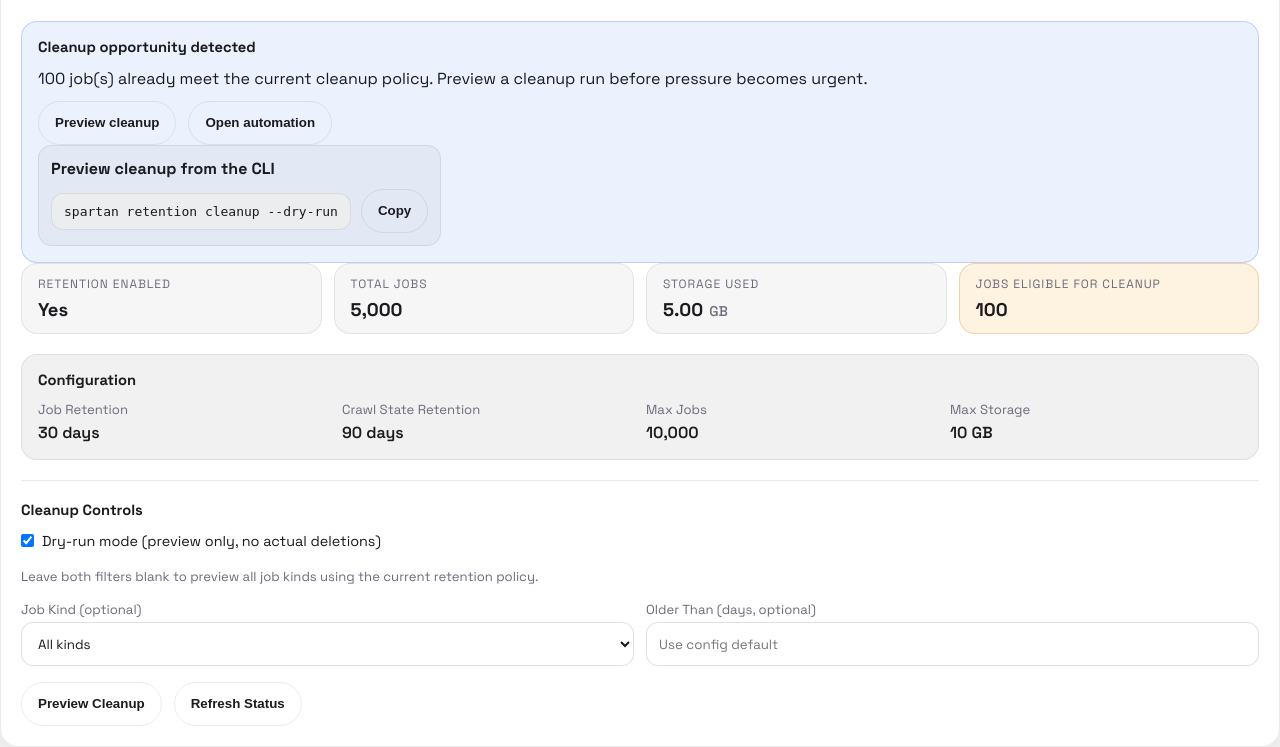
Scenario: RetentionStatusPanel › shows control-local preview feedback while a preview is running
(page scrolled)
Click the button "Preview Cleanup" at (91, 704), box [21,682,162,726]
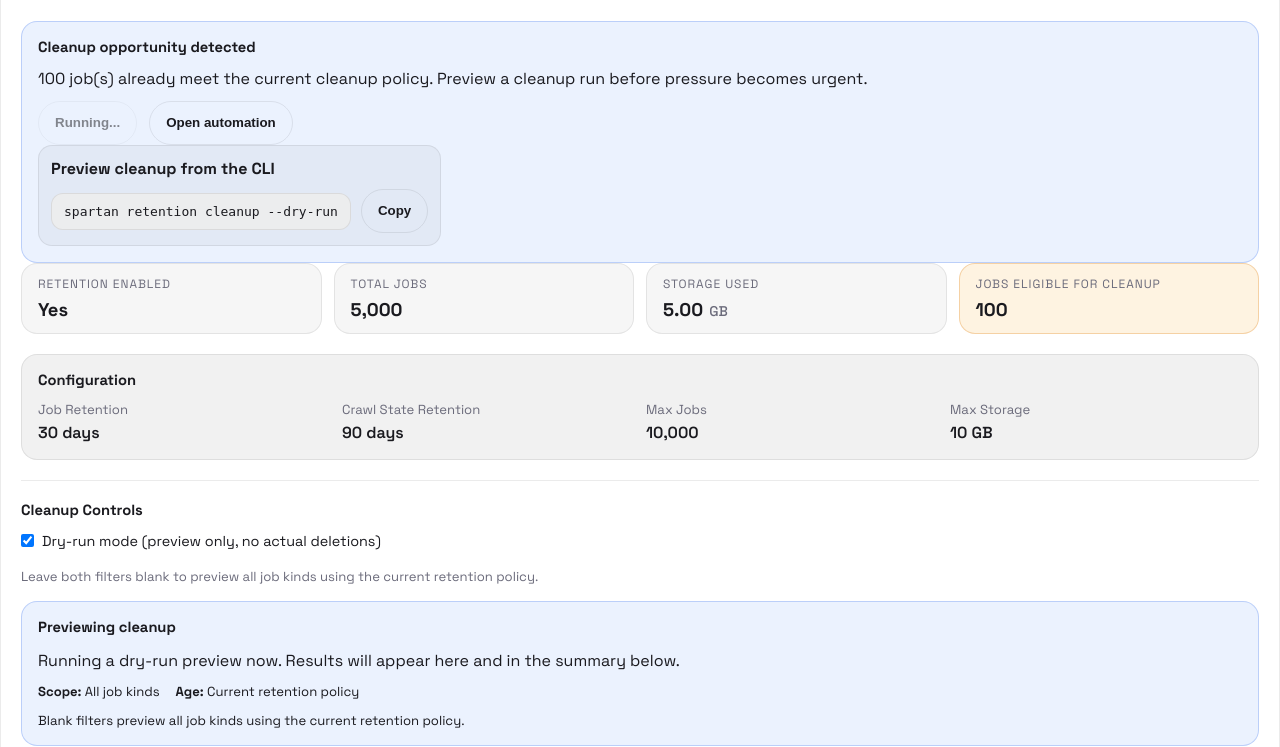
Check: the heading "Previewing cleanup" is shown, box [38,618,176,636]
Check: the text "Running a dry-run preview now" is shown, box [38,650,680,671]
